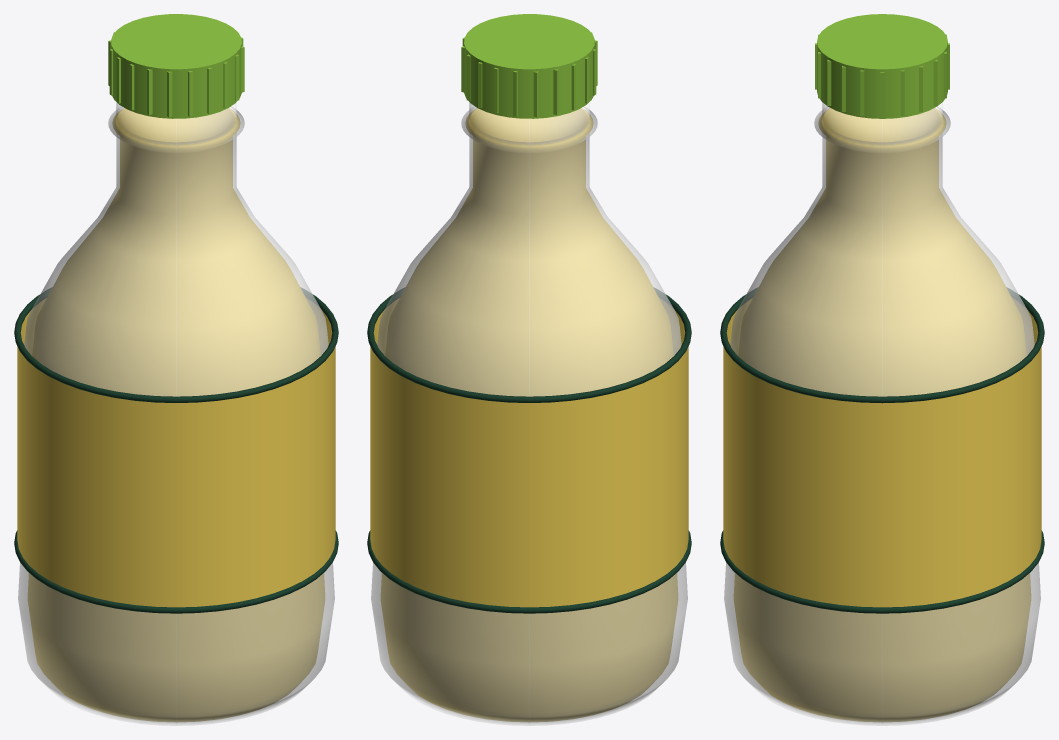
The model's file is pineapple-bottle.glb.
3 views of the same model, side by side, from view 1: azimuth 30°, elevation 25°; view 2: azimuth 150°, elevation 25°; view 3: azimuth 270°, elevation 25° (orthographic).
Visible parts, largest first — view 1: object 1, object 2, ProductLabel, object 6, object 4, object 5; view 2: object 1, object 2, ProductLabel, object 6, object 4, object 5; view 3: object 1, object 2, ProductLabel, object 6, object 4, object 5.
Boxes of the visible parts, <box> form: object 1: <box>18,102,334,725</box>; object 2: <box>28,108,324,722</box>; ProductLabel: <box>17,298,335,607</box>; object 6: <box>111,14,241,118</box>; object 4: <box>14,288,338,402</box>; object 5: <box>14,530,338,613</box>; object 1: <box>371,102,687,725</box>; object 2: <box>381,108,677,722</box>; ProductLabel: <box>370,298,688,607</box>; object 6: <box>464,14,594,118</box>; object 4: <box>367,288,691,402</box>; object 5: <box>367,530,691,613</box>; object 1: <box>724,102,1040,725</box>; object 2: <box>734,108,1030,722</box>; ProductLabel: <box>723,298,1041,607</box>; object 6: <box>817,14,947,118</box>; object 4: <box>720,288,1044,403</box>; object 5: <box>720,530,1044,613</box>.
Size of the model in its own units: 1.19 by 2.55 by 1.19.
